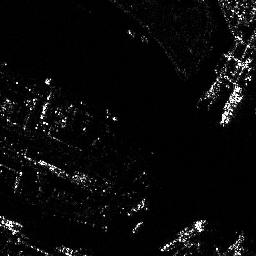ship: (159, 220, 208, 251), (220, 90, 244, 126)
